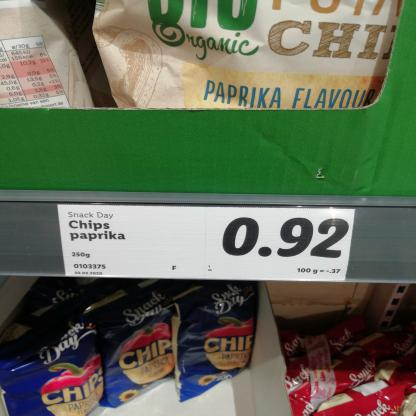prtg: (58, 205, 357, 282)
